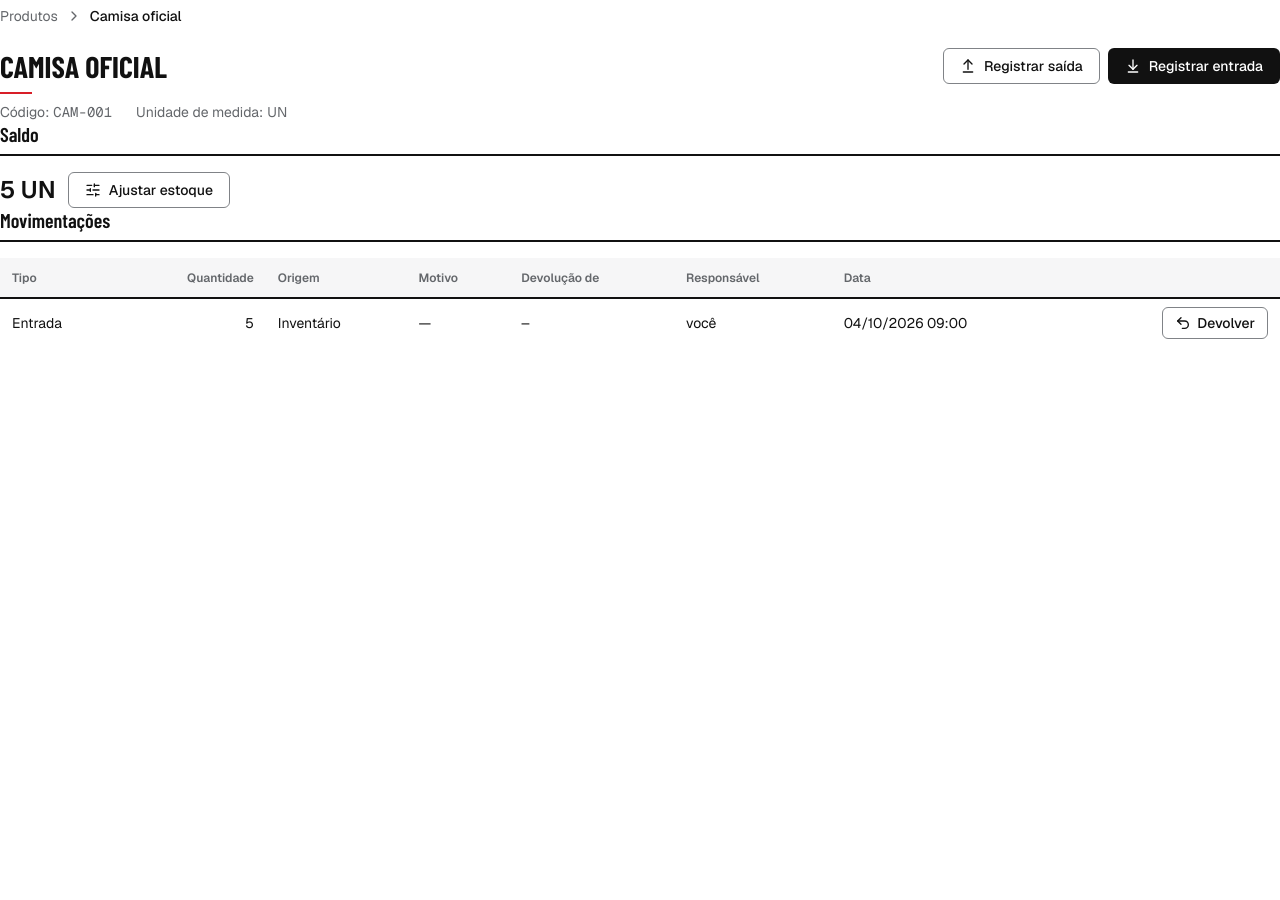
Test: ajuste com sucesso › resultado positivo não mostra aviso
The image size is (1280, 900).
Expected: the text with test id "saldo-valor" reads "5 UN", top-left (0, 174), bottom-right (56, 205)
Click the button "Ajustar estoque".
click(149, 190)  # box top-left (68, 172), bottom-right (230, 208)
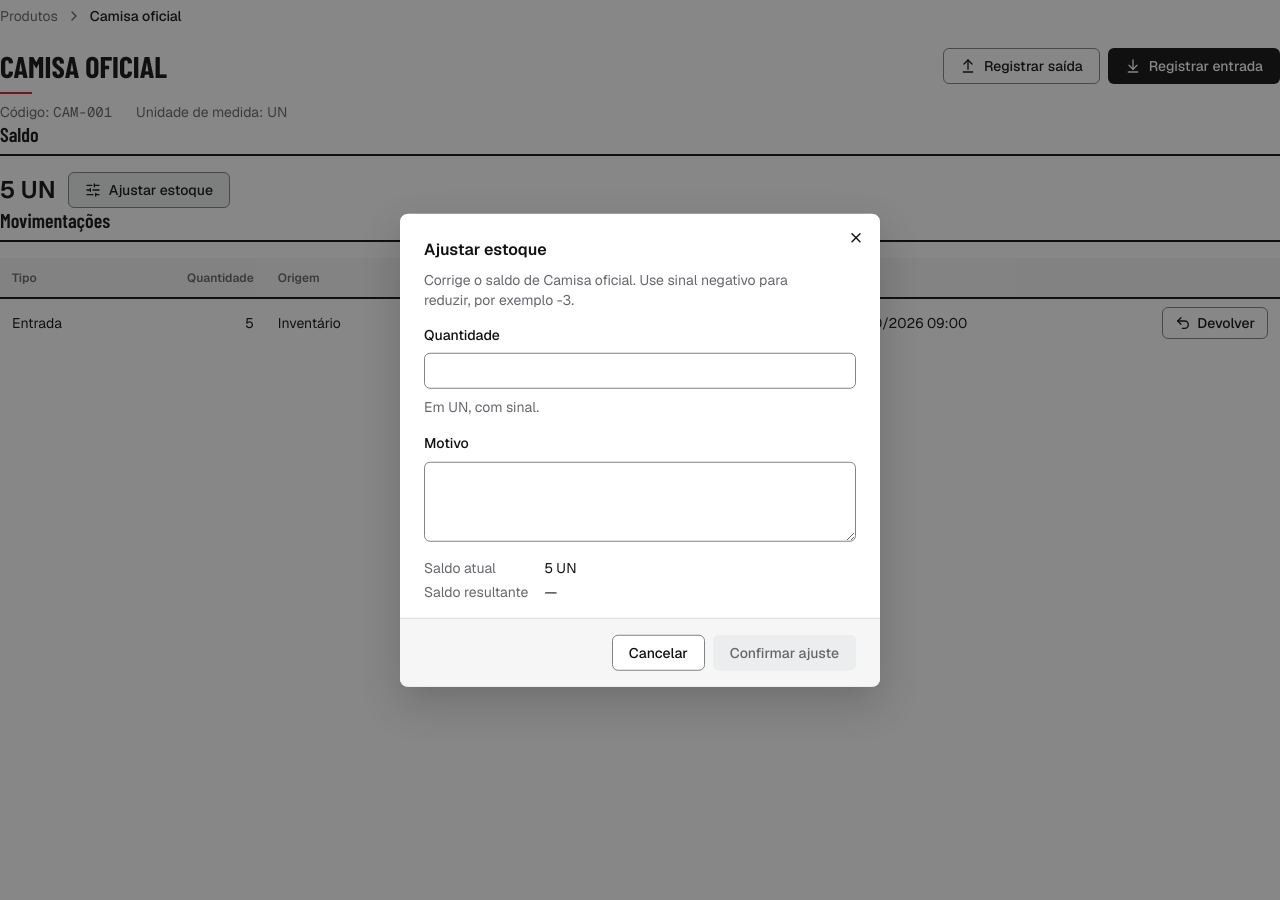
Type "+2" into the field labelled "Quantidade".
click(640, 371); type("+2")  # box top-left (424, 353), bottom-right (856, 389)
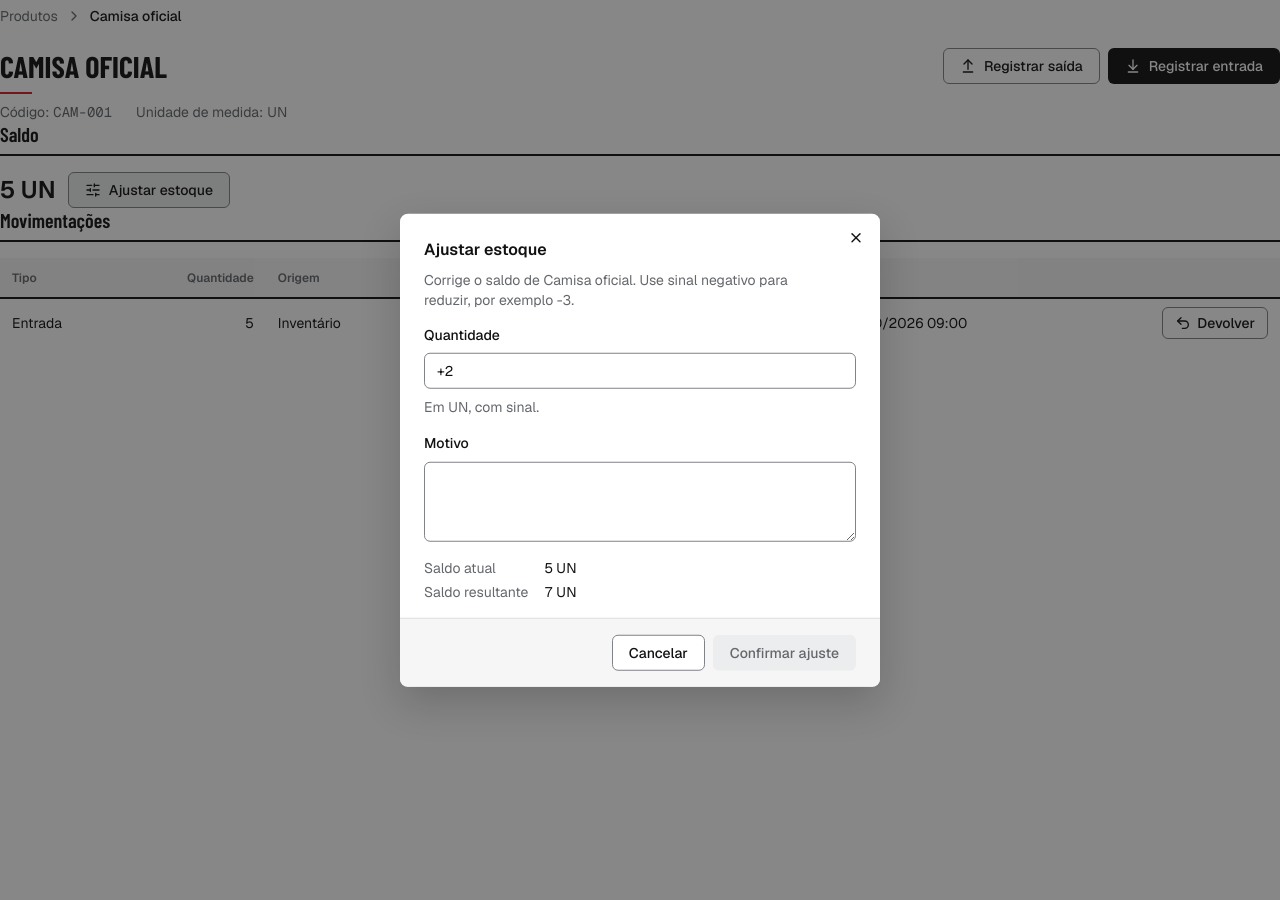
Type "Achado no depósito" into the text box labelled "Motivo".
click(640, 501); type("Achado no depósito")  # box top-left (424, 461), bottom-right (856, 541)
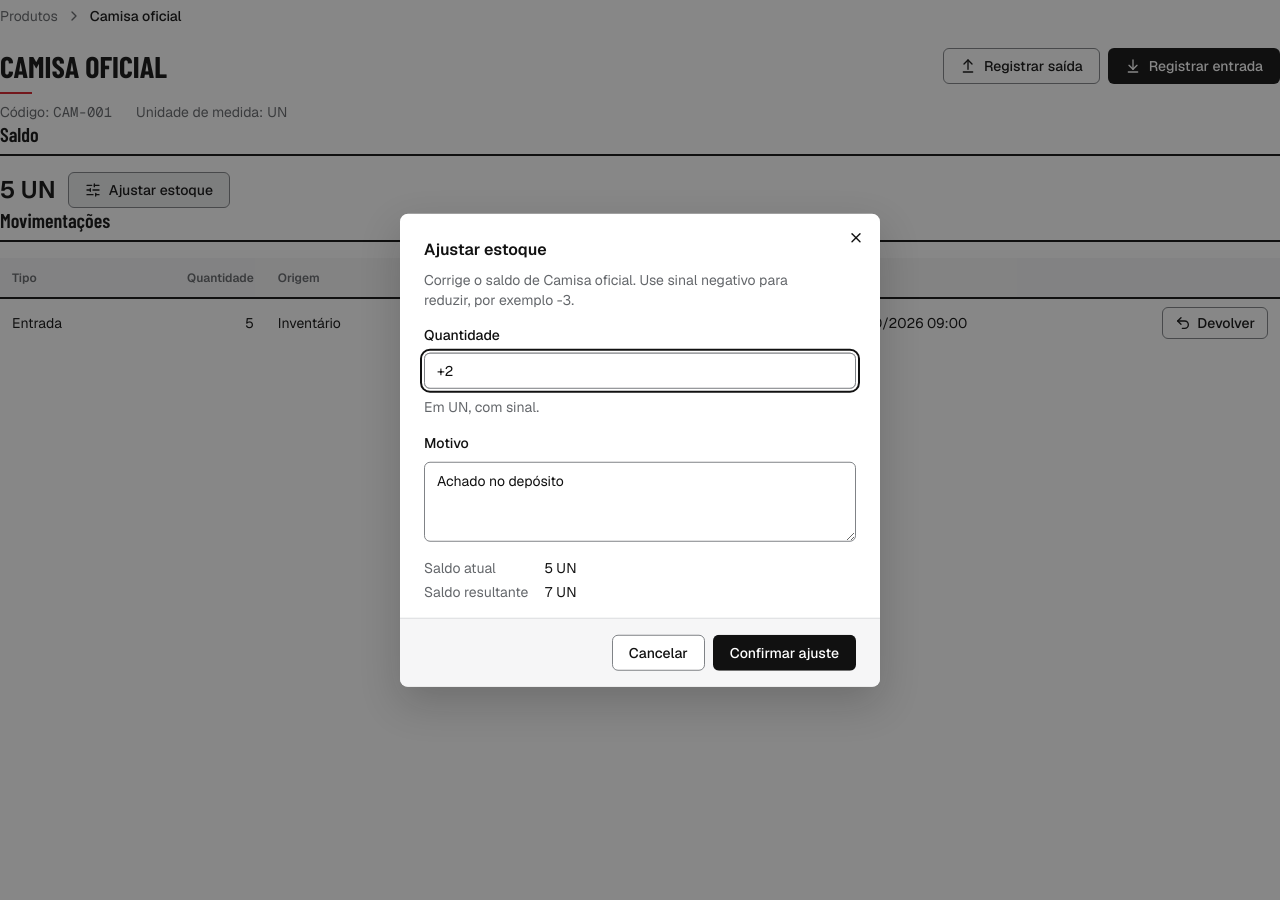
Expected: the text with test id "saldo-valor" reads "5 UN", top-left (0, 174), bottom-right (56, 205)
Expected: the text with test id "ajuste-saldo-resultante" reads "7 UN", top-left (544, 582), bottom-right (577, 600)
Expected: the button "Confirmar ajuste" is enabled, top-left (713, 634), bottom-right (856, 670)
